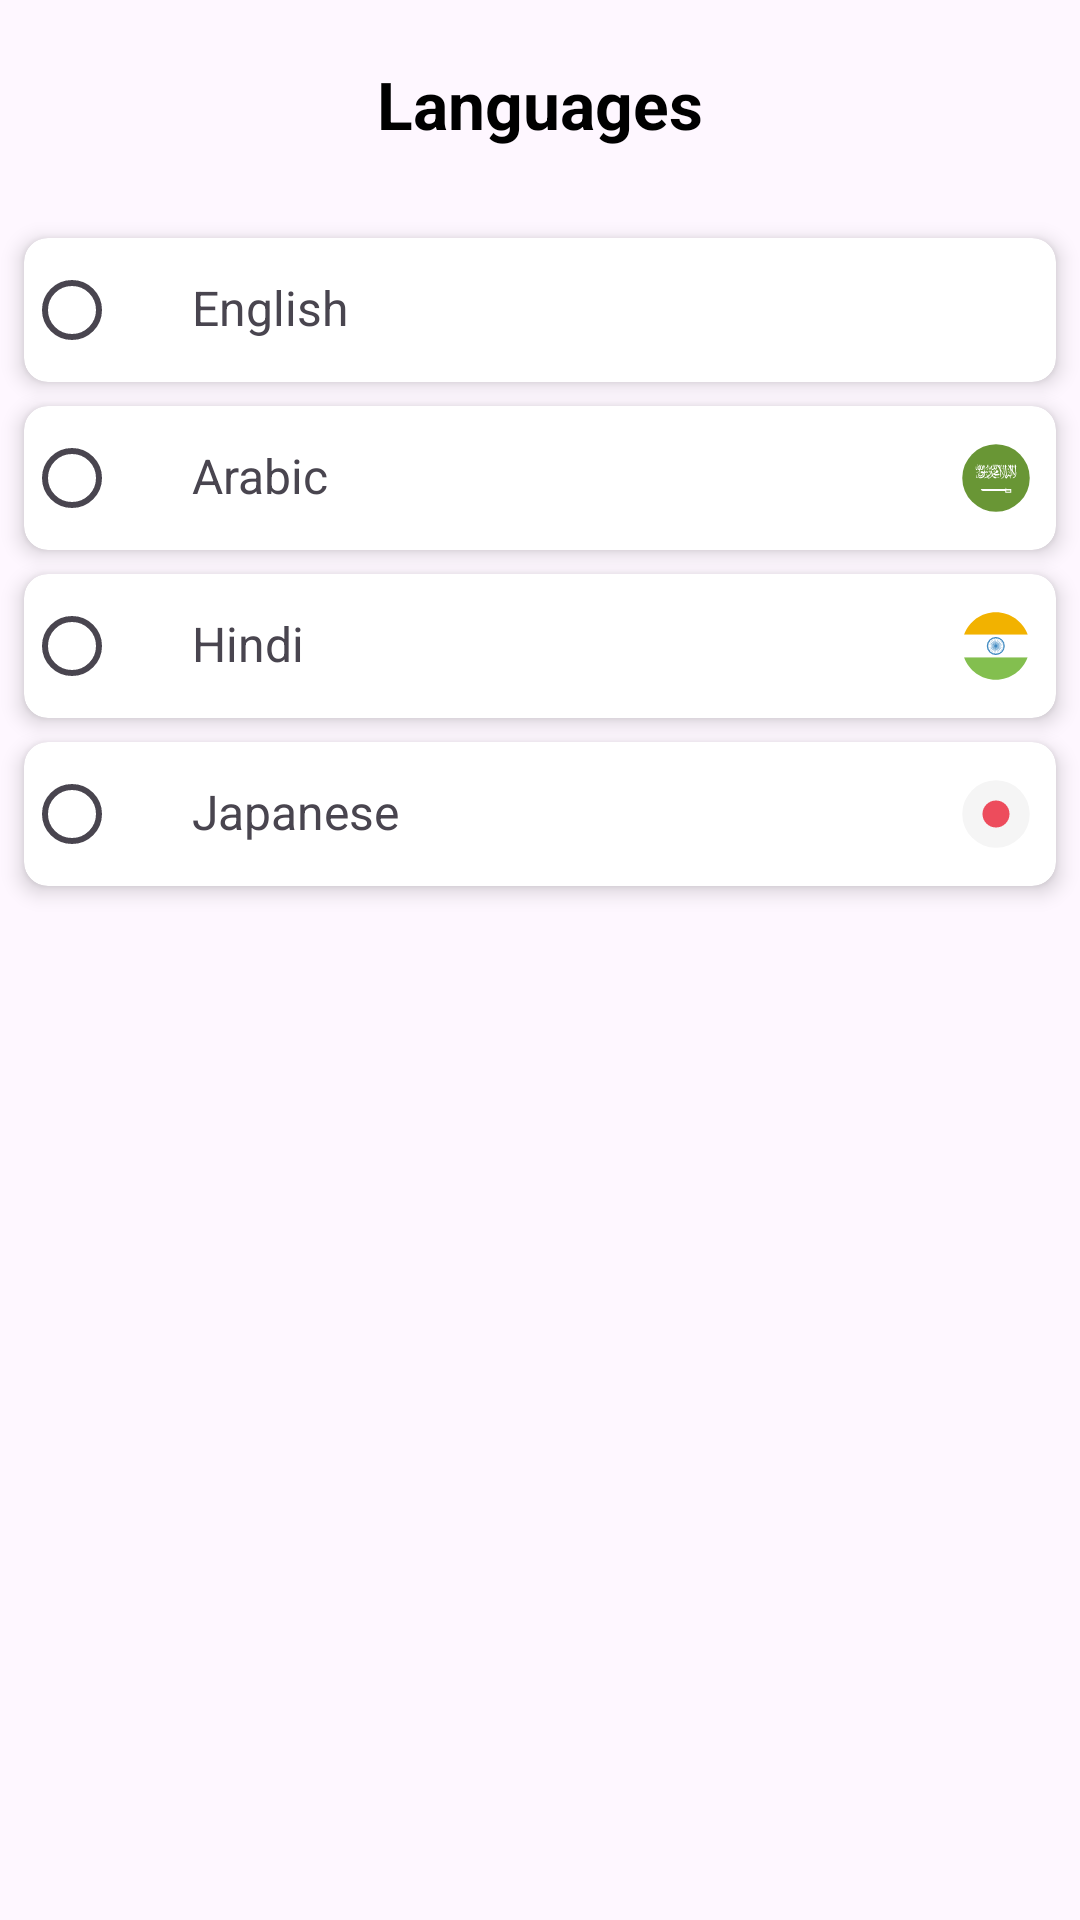

Point at icon controls on the screen. Image size 1080px×1920px, points as point (x, y).
india: point (996, 646)
saudi: point (996, 478)
